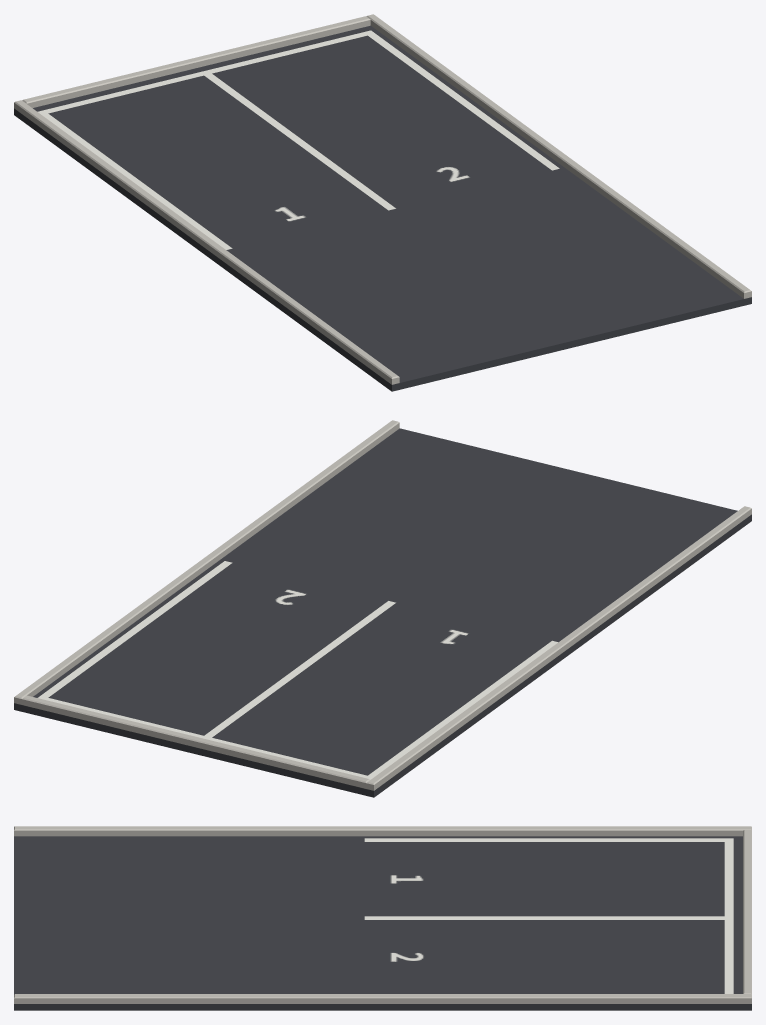
File: SM_Ground_Parking_Row_550x1000_Curb_01.fbx
The picture shows the model from 3 angles, top to bottom: view 1: azimuth 30°, elevation 25°; view 2: azimuth 150°, elevation 25°; view 3: azimuth 270°, elevation 25°; orthographic projection. The views are drawn at different scales.
Parts seen in each view (by area): view 1: SM_Ground_Parking_Row_550x1000_Curb_01; view 2: SM_Ground_Parking_Row_550x1000_Curb_01; view 3: SM_Ground_Parking_Row_550x1000_Curb_01.
Part boxes in pixels (bbox=[...]): SM_Ground_Parking_Row_550x1000_Curb_01: bbox=[14, 14, 751, 391]; SM_Ground_Parking_Row_550x1000_Curb_01: bbox=[14, 420, 751, 797]; SM_Ground_Parking_Row_550x1000_Curb_01: bbox=[14, 826, 751, 1010].
Bounding box in the file's own units: 5.5 × 0.2 × 10.
Materials: 1 (1 with a texture image).
